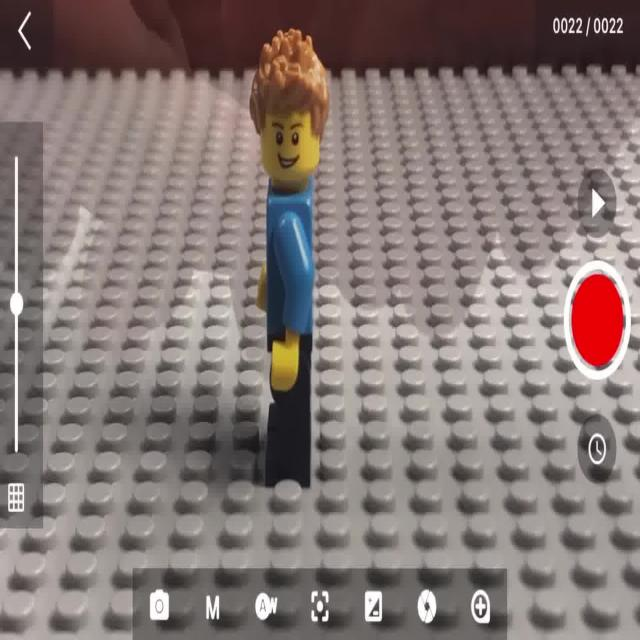4: (271, 213, 317, 385)
hand: (267, 37, 322, 493)
